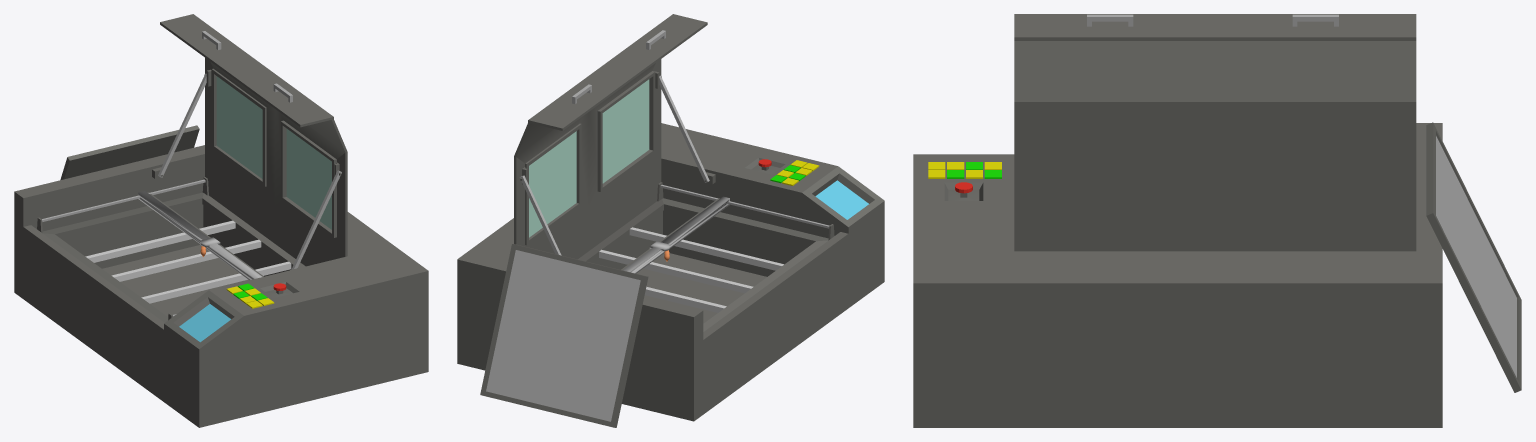
The model's file is stanok 1.fbx.
3 renders of one model, left to right at view 1: azimuth 30°, elevation 25°; view 2: azimuth 150°, elevation 25°; view 3: azimuth 270°, elevation 25°, orthographic. The views are drawn at different scales.
Parts seen in each view (by area): view 1: Cube.004, Cube.008; view 2: Cube.004, Cube.008; view 3: Cube.004.
Part boxes in pixels (x1,y1,x2,y2): Cube.004: (14, 14, 428, 427); Cube.008: (138, 191, 262, 280); Cube.004: (457, 14, 884, 427); Cube.008: (622, 196, 729, 273); Cube.004: (913, 14, 1521, 427).
Bounding box in the file's own units: 217 × 226 × 348.
